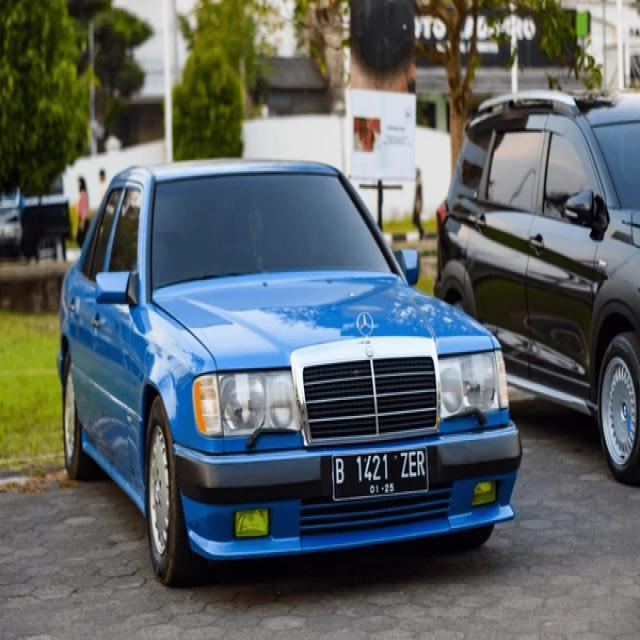mercedes: (355, 311, 373, 336)
